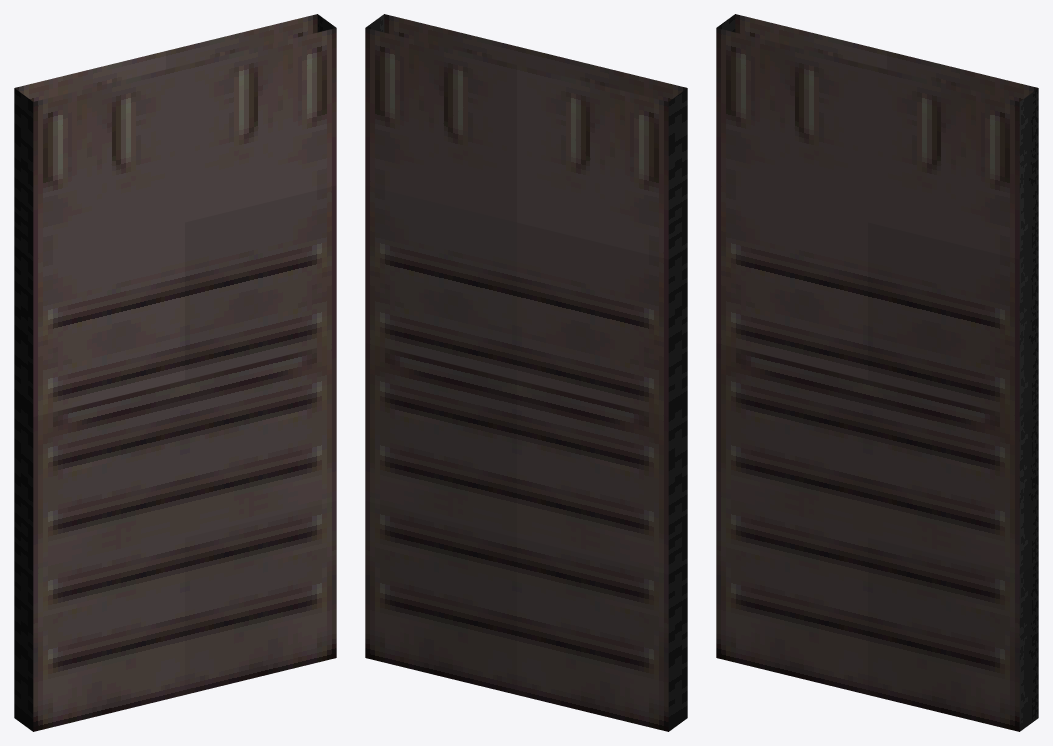
Rendered from primary_274.glb.
3 views of the same model, side by side, from view 1: azimuth 30°, elevation 25°; view 2: azimuth 150°, elevation 25°; view 3: azimuth 330°, elevation 25° (orthographic).
Parts seen in each view (by area): view 1: Object; view 2: Object; view 3: Object.
Part boxes in pixels (<box>): Object: <box>14,14,336,731</box>; Object: <box>365,14,687,731</box>; Object: <box>716,14,1038,731</box>.
Bounding box in the file's own units: 1.21 × 2.4 × 0.1312.
Materials: 16 (16 with a texture image).
